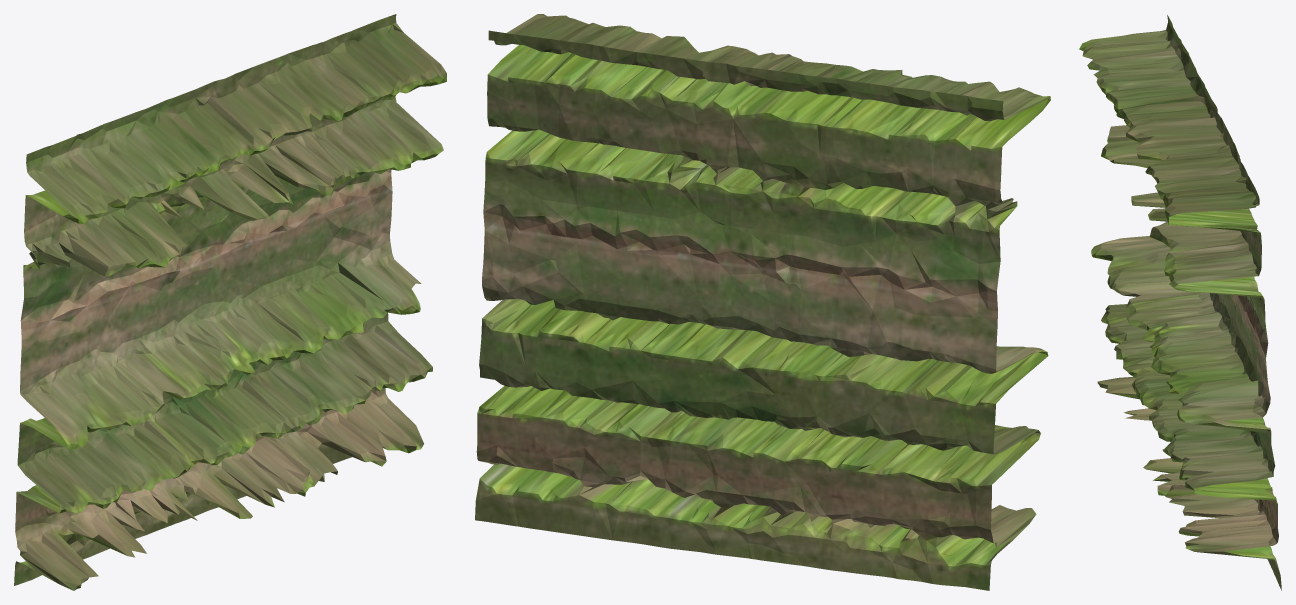
Rendered from map_250_30.obj.
3 renders of one model, left to right at view 1: azimuth 30°, elevation 25°; view 2: azimuth 150°, elevation 25°; view 3: azimuth 270°, elevation 25°, orthographic. The views are drawn at different scales.
Visible parts, largest first — view 1: grp1; view 2: grp1; view 3: grp1.
Boxes of the visible parts, x1,y1,x2,y2 form: grp1: [14, 14, 446, 590]; grp1: [475, 14, 1050, 590]; grp1: [1079, 15, 1281, 590].
Size of the model in its own units: 10 by 10 by 4.67.
Materials: 1 (1 with a texture image).
